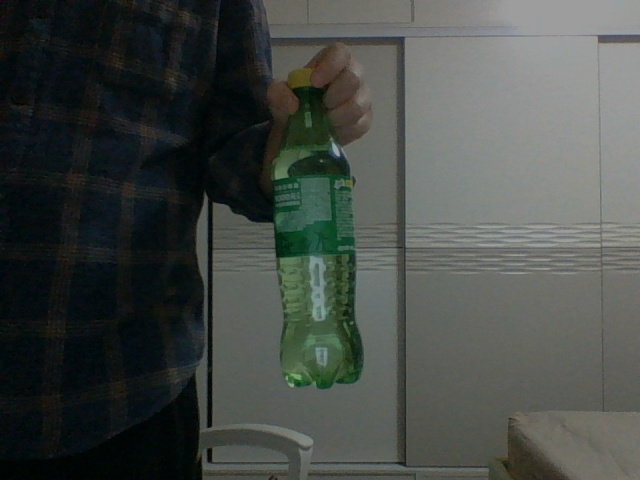Sprite: (270, 68, 366, 387)
